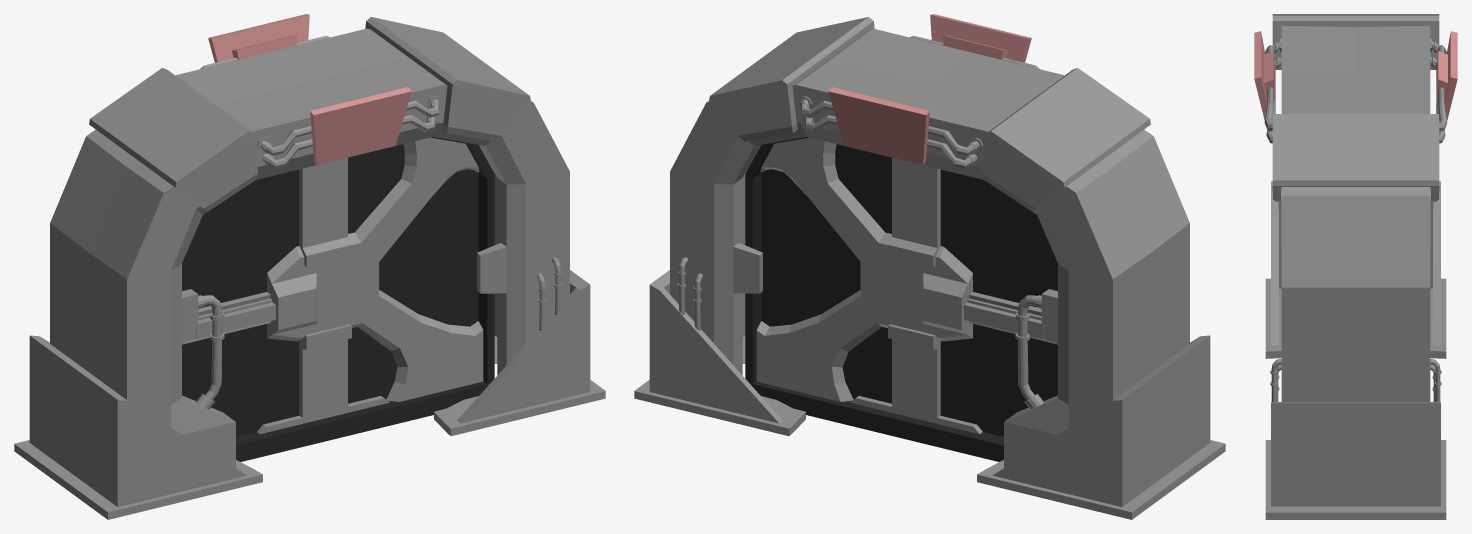
Rendered from LOW-Symmetry.FBX.
3 renders of one model, left to right at view 1: azimuth 30°, elevation 25°; view 2: azimuth 150°, elevation 25°; view 3: azimuth 270°, elevation 25°, orthographic. The views are drawn at different scales.
Parts seen in each view (by area): view 1: Object008; view 2: Object008; view 3: Object008.
Part boxes in pixels (x1,y1,x2,y2): Object008: [14, 14, 605, 519]; Object008: [634, 14, 1225, 519]; Object008: [1254, 14, 1457, 519].
Bounding box in the file's own units: 221 × 154 × 81.25.
